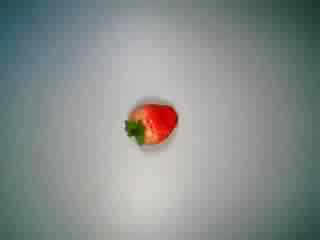strawberry: (114, 94, 182, 157)
